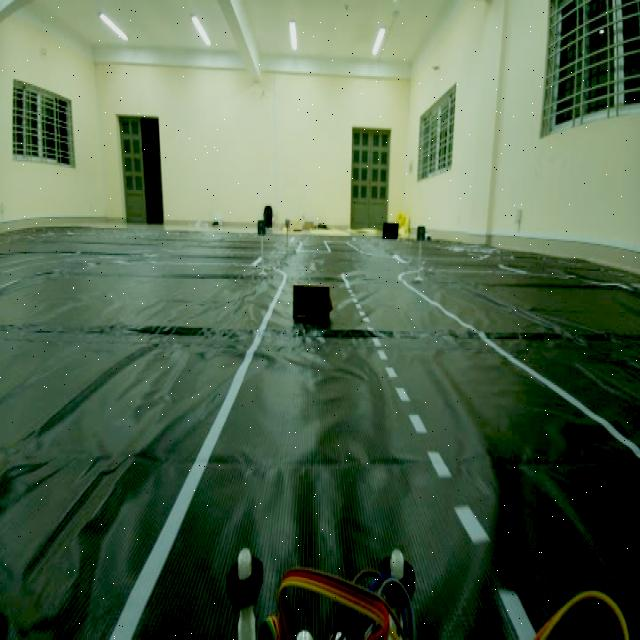roadblock: (288, 279, 336, 334)
